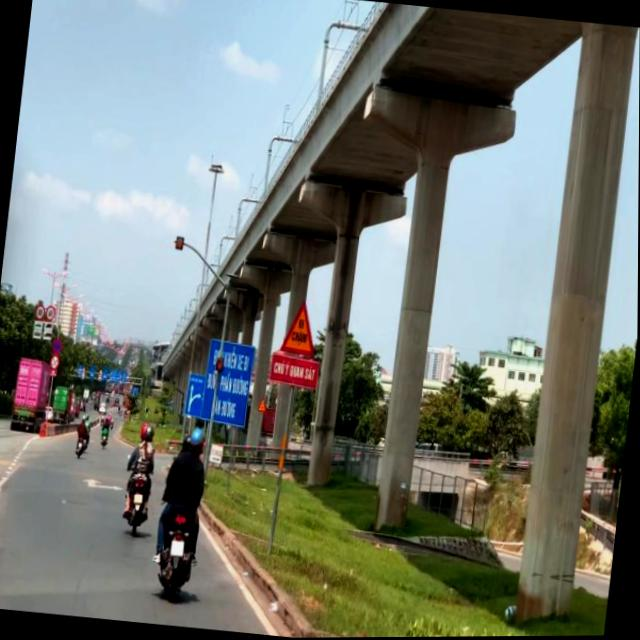Cam dung xe va do xe: (52, 337, 63, 355)
Di cham: (278, 296, 322, 359)
Toc do toi da cho phep: (45, 305, 56, 322), (36, 304, 46, 321)
